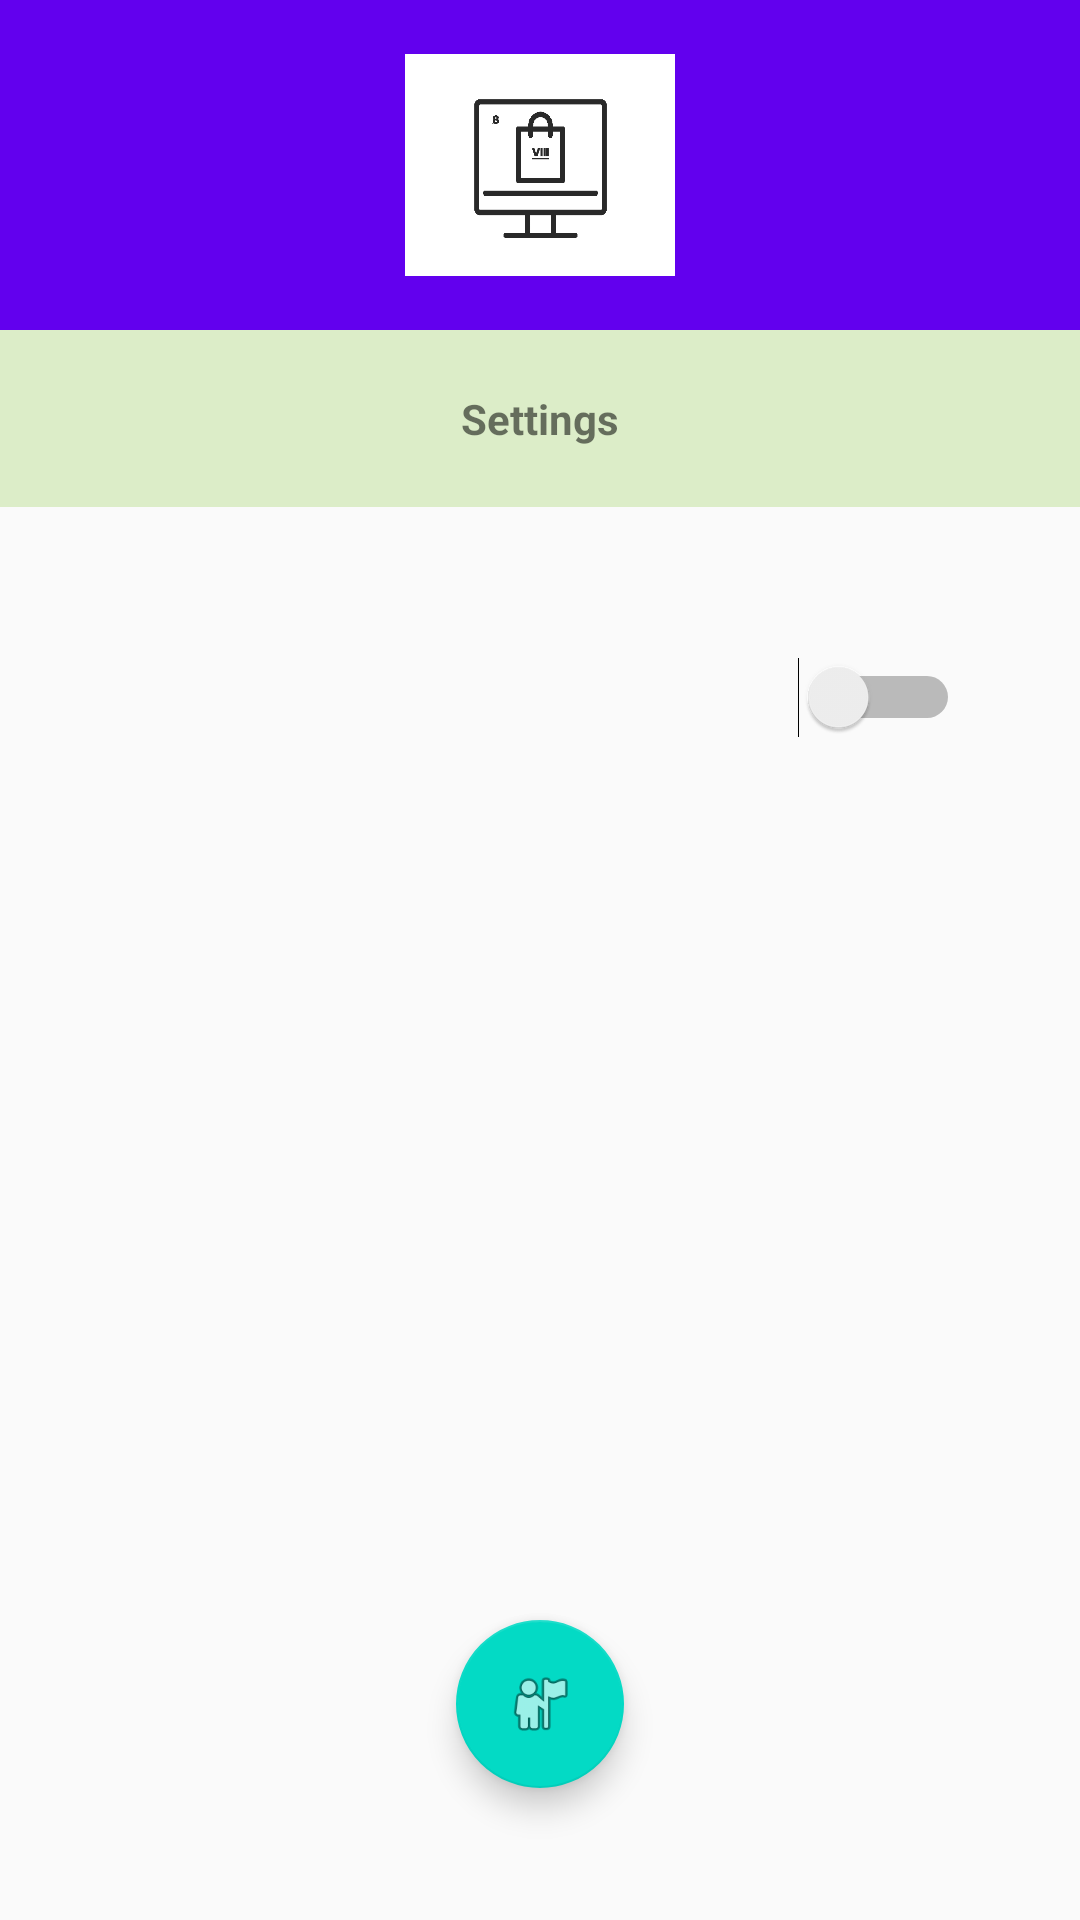

Screen size 1080 x 1920. Icon name, then its center in pixels as (x,y):
myplaces: (540,1704)
